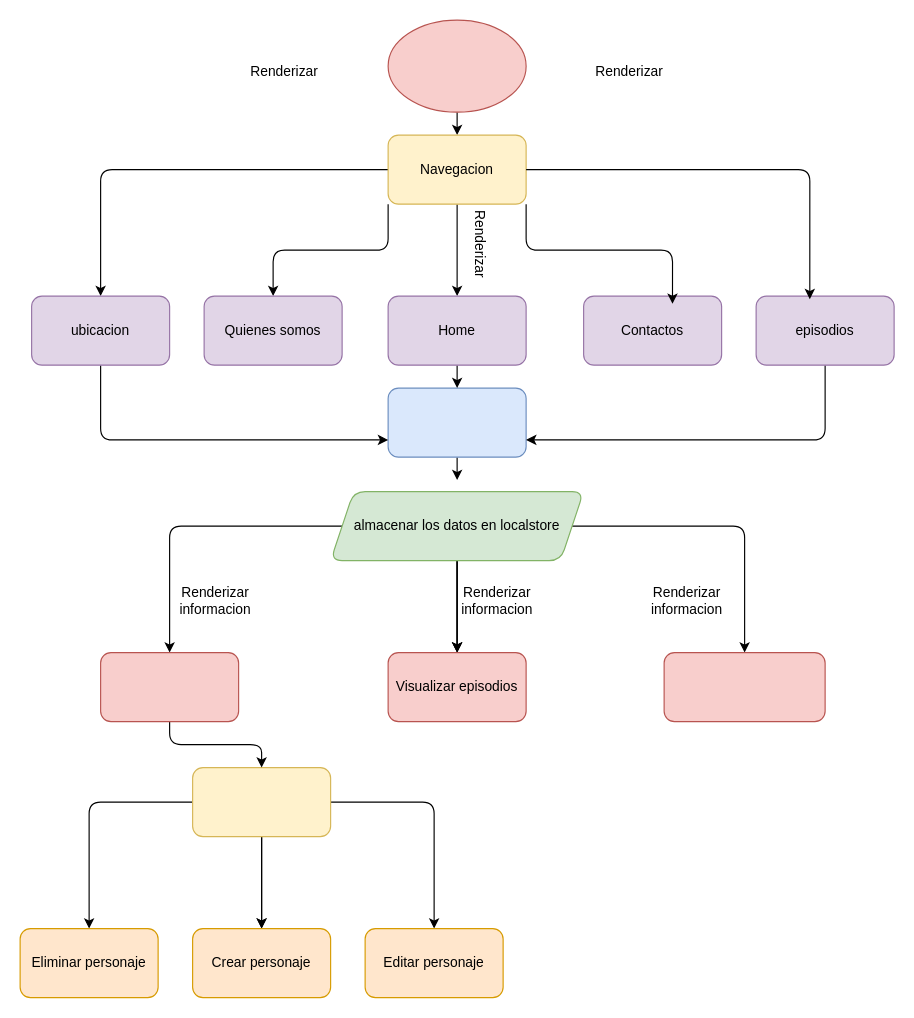
The diagram is 914 pixels wide and 1018 high, and some of its shapes have lost their labels. The shapes that lost their labels are listed below. From the top down, each one's centre as x and y in pixels, then its label:
(x=456, y=65): Start
(x=456, y=422): Consumir la api con axios extrayendo data.results
(x=169, y=686): Visualizar tarjetas
(x=744, y=686): Visualizar Dimenciones/Ubicaciones
(x=261, y=801): CRUD
